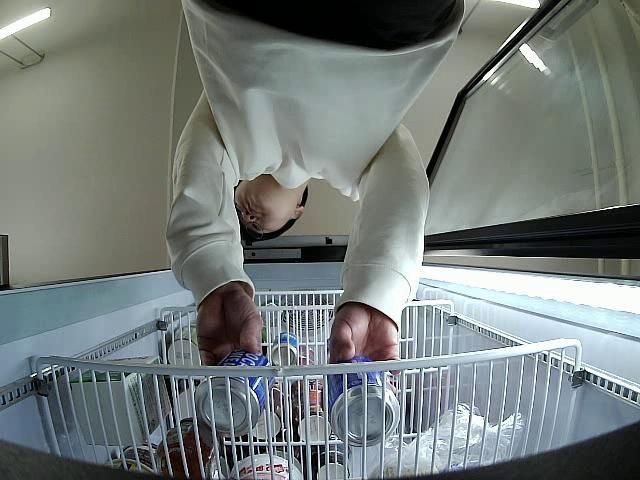13_pocariSweat: (318, 356, 400, 448), (196, 348, 272, 430)
